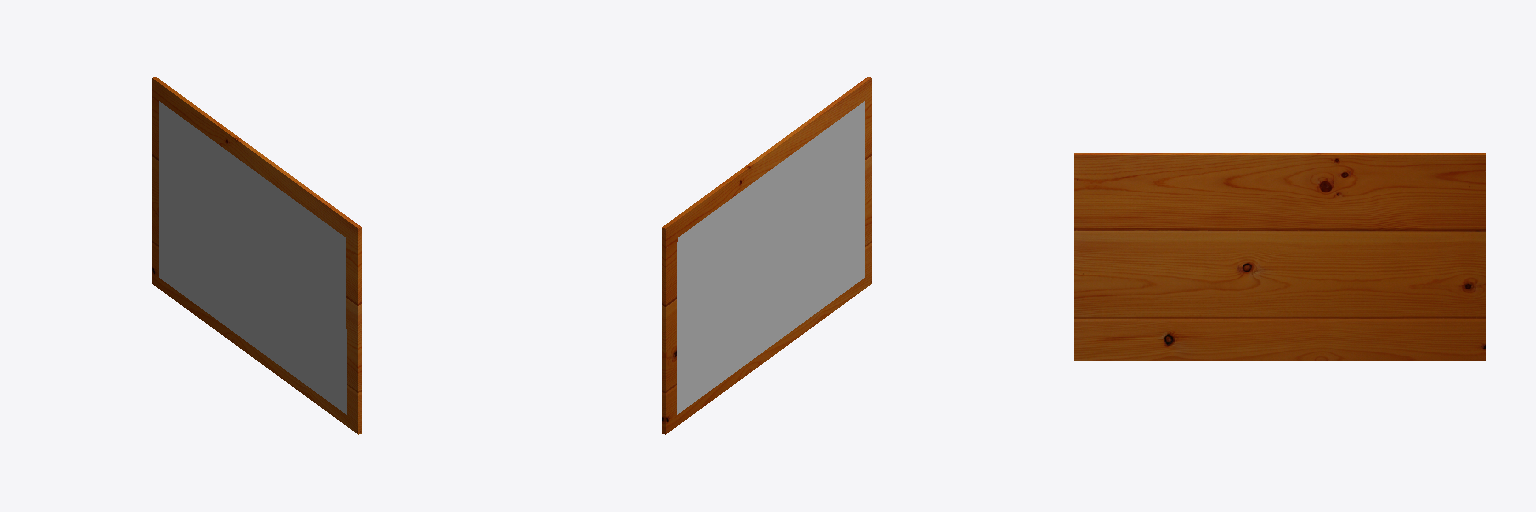
3 renders of one model, left to right at view 1: azimuth 30°, elevation 25°; view 2: azimuth 150°, elevation 25°; view 3: azimuth 270°, elevation 25°, orthographic.
Parts seen in each view (by area): view 1: Plane, Cube; view 2: Plane, Cube; view 3: Cube.
Boxes of the visible parts, x1,y1,x2,y2 form: Plane: [159, 101, 346, 414]; Cube: [152, 77, 361, 434]; Plane: [677, 101, 864, 414]; Cube: [662, 77, 871, 434]; Cube: [1074, 153, 1485, 360].
Size of the model in its own units: 0.1302 by 3.79 by 6.88.
Materials: 2 (1 with a texture image).